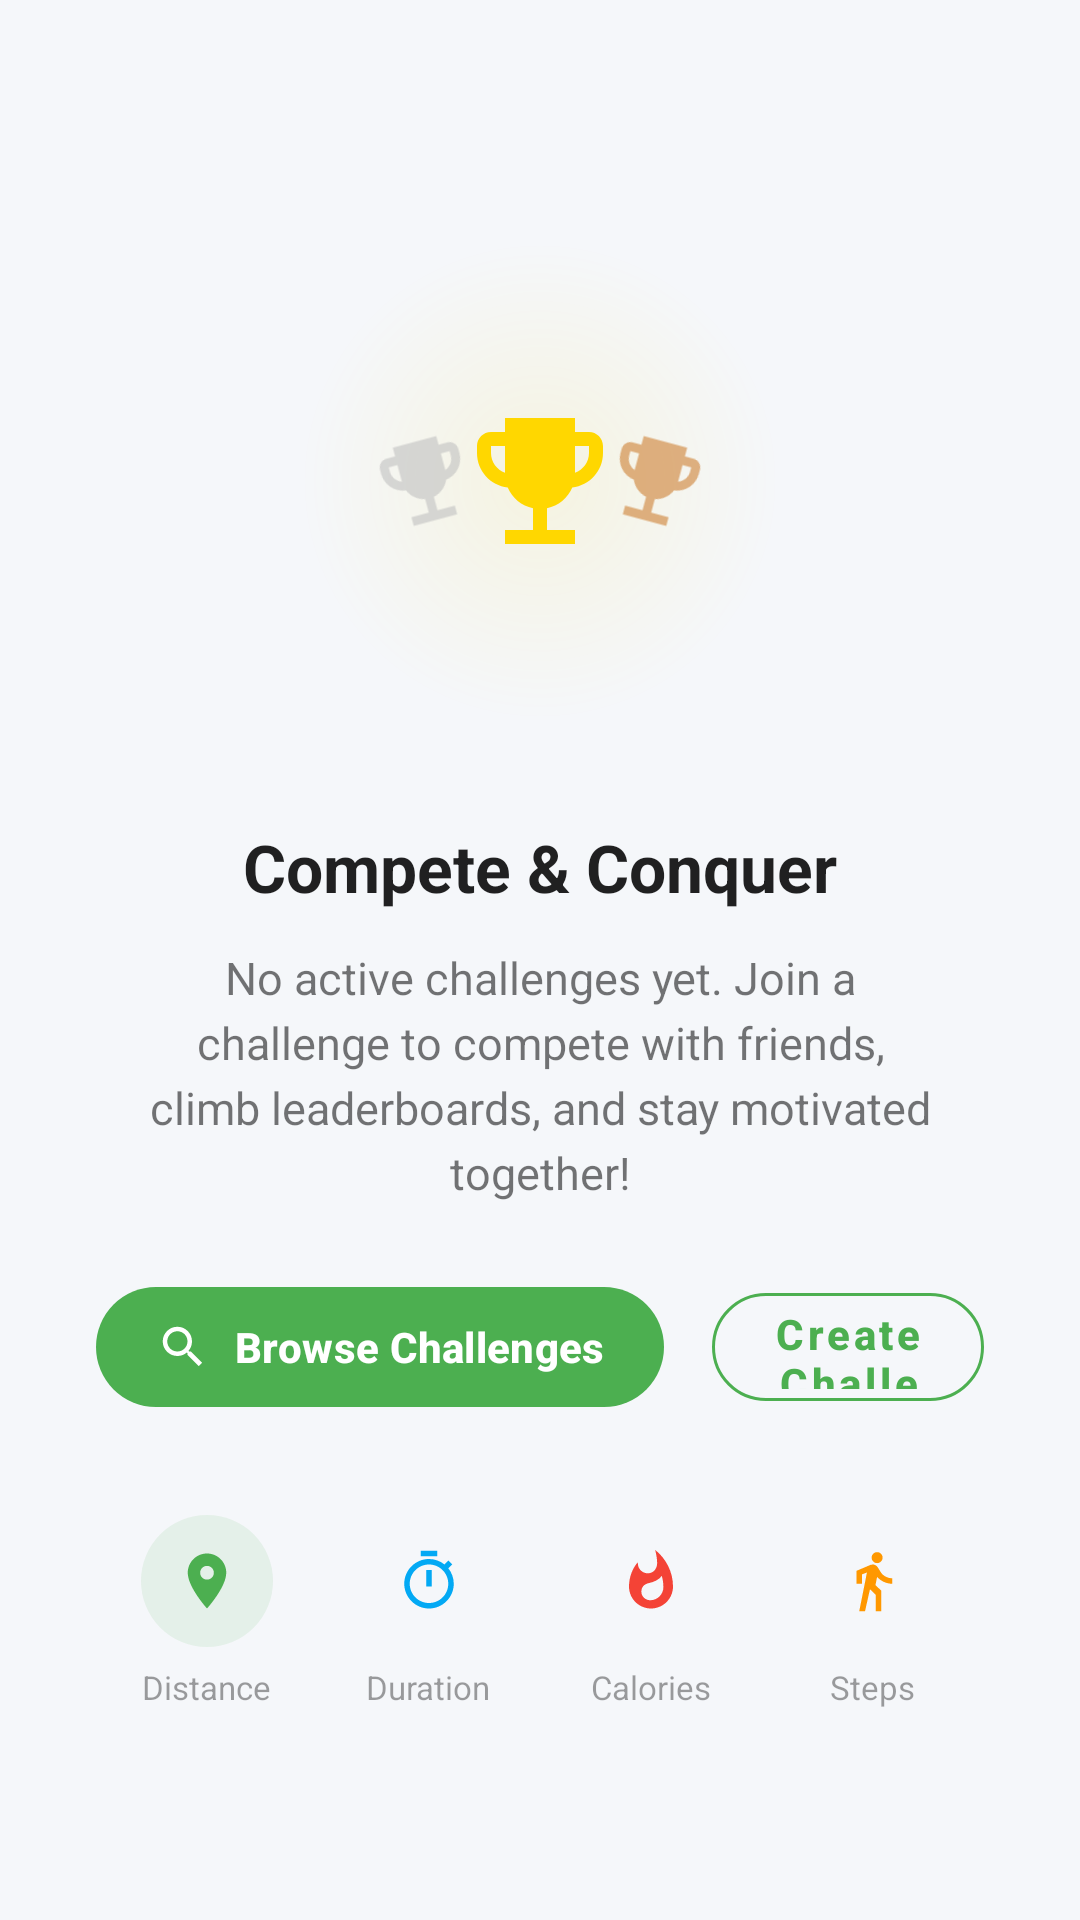

Icons on this 1080 × 1920 Android screen, each with the point to tap as point (x, y):
Compete & Conquer: point (540, 481)
walking: point (874, 1582)
